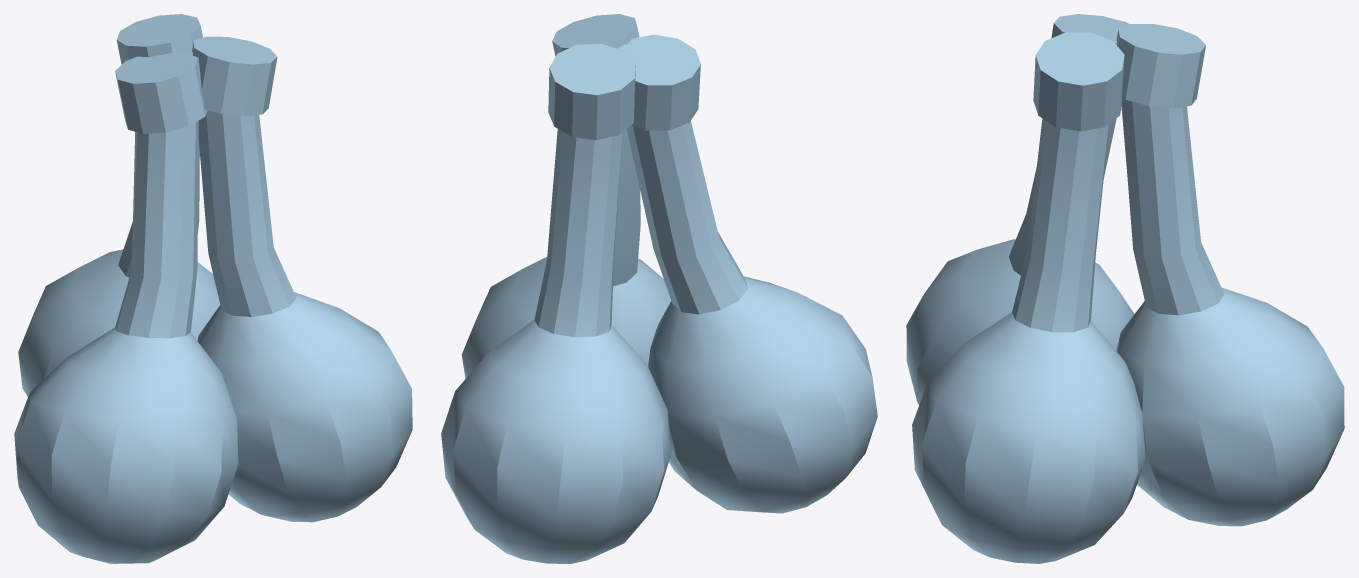
File: 004_Shadow_Potion_03.fbx
3 views of the same model, side by side, from view 1: azimuth 30°, elevation 25°; view 2: azimuth 150°, elevation 25°; view 3: azimuth 270°, elevation 25° (orthographic). The views are drawn at different scales.
Visible parts, largest first — view 1: Sphere.012, Sphere.013, Sphere.024; view 2: Sphere.024, Sphere.012, Sphere.013; view 3: Sphere.013, Sphere.024, Sphere.012.
Part boxes in pixels (x1,y1,x2,y2): Sphere.012: [14, 50, 238, 563]; Sphere.013: [192, 36, 412, 522]; Sphere.024: [18, 14, 220, 396]; Sphere.024: [441, 43, 671, 563]; Sphere.012: [618, 34, 877, 513]; Sphere.013: [461, 14, 671, 378]; Sphere.013: [912, 32, 1145, 563]; Sphere.024: [1116, 23, 1344, 526]; Sphere.012: [906, 14, 1134, 405].
Bounding box in the file's own units: 88.21 × 104 × 85.91.
